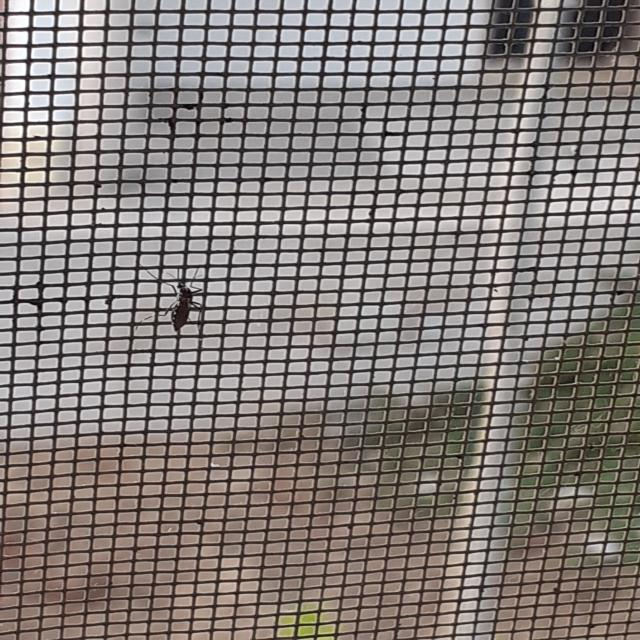albopictus: (145, 268, 214, 330)
